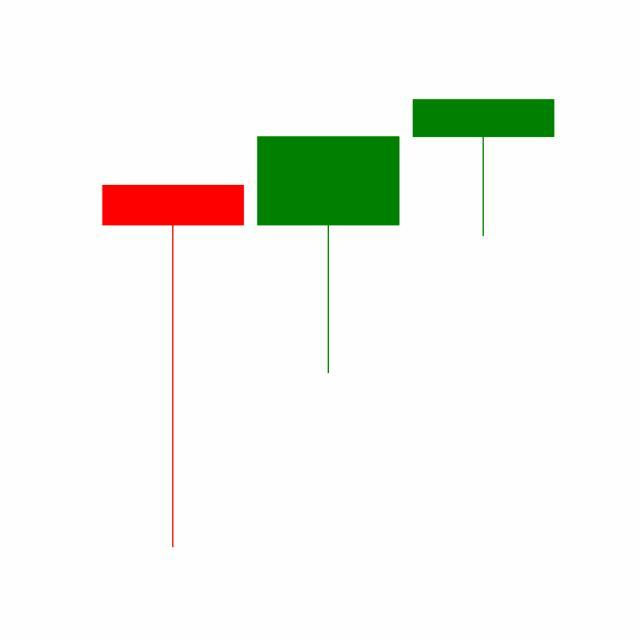Hanging Man: (250, 135, 407, 377)
